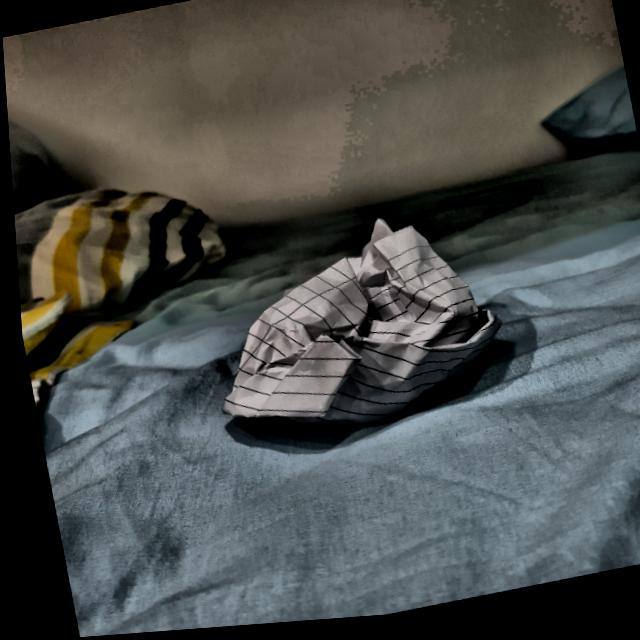Paper: (183, 206, 520, 464)
